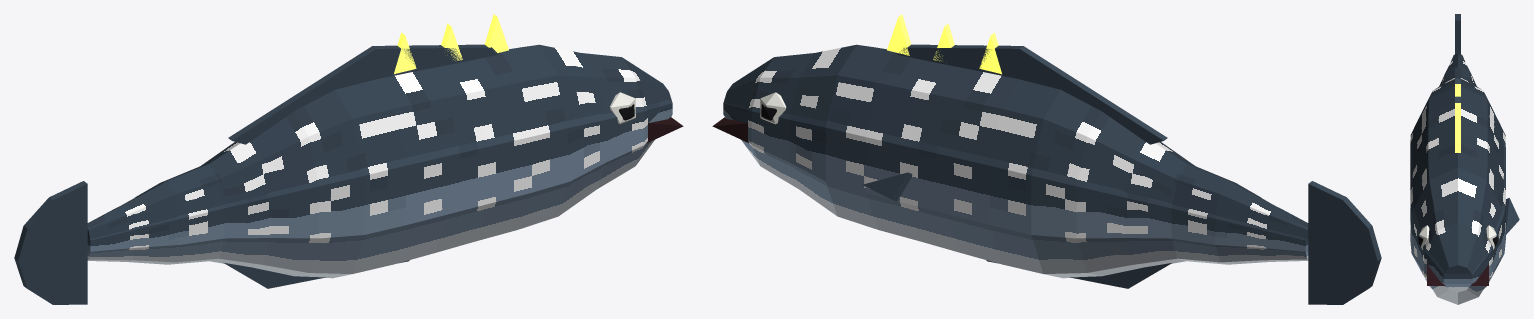
Rendered from the_mirror_cod.glb.
The picture shows the model from 3 angles, left to right: view 1: azimuth 30°, elevation 25°; view 2: azimuth 150°, elevation 25°; view 3: azimuth 270°, elevation 25°; orthographic projection. The views are drawn at different scales.
Visible parts, largest first — view 1: fish_the_mirror_cod; view 2: fish_the_mirror_cod; view 3: fish_the_mirror_cod.
Part boxes in pixels (x1=…): fish_the_mirror_cod: x1=14, y1=14, x2=683, y2=304; fish_the_mirror_cod: x1=712, y1=14, x2=1381, y2=304; fish_the_mirror_cod: x1=1410, y1=14, x2=1519, y2=304.
Bounding box in the file's own units: 1.12 × 0.3767 × 0.2178.
6 materials, 1 textured.
